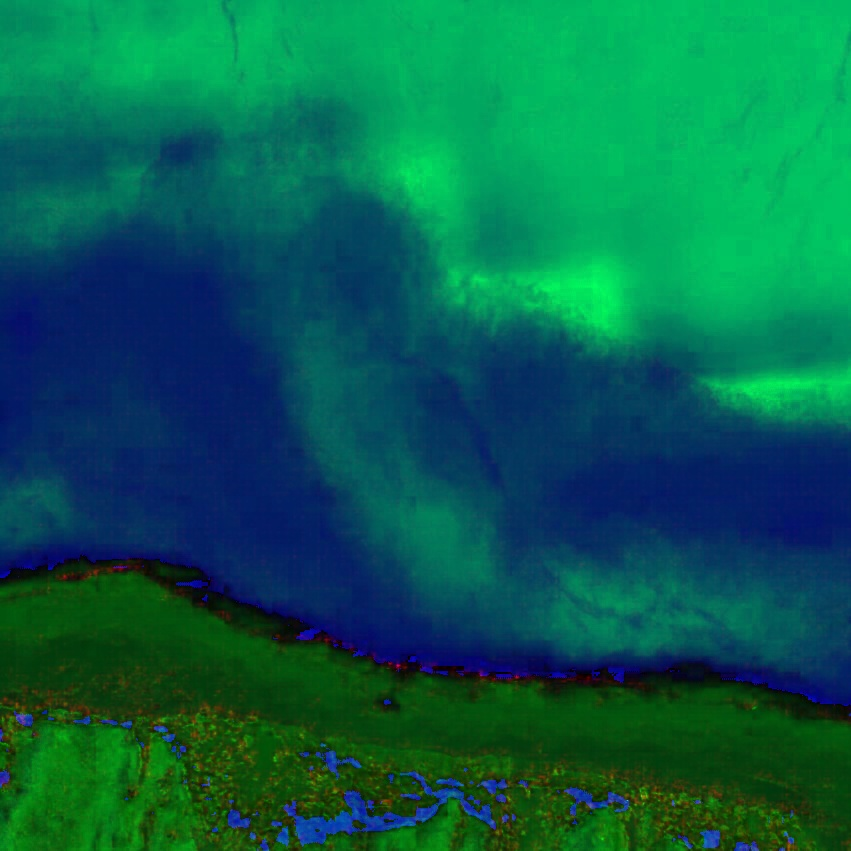rip_current: (144, 113, 547, 614)
